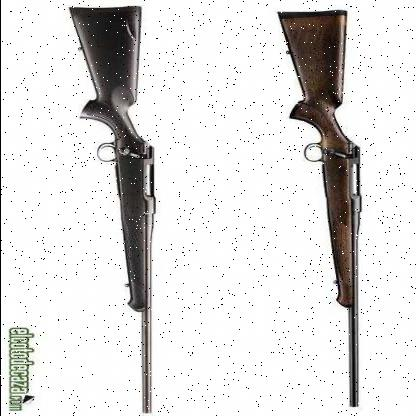rifle: (238, 1, 385, 409), (54, 6, 187, 415)
